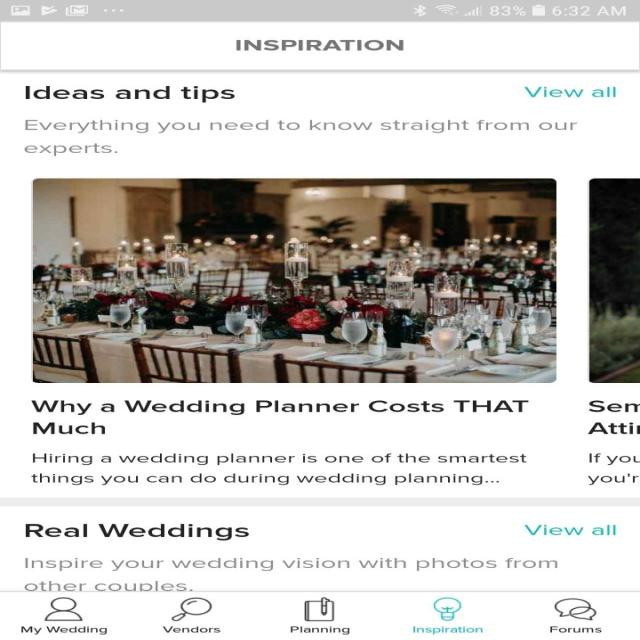Icon: (170, 597, 212, 621), (552, 598, 596, 620), (44, 596, 82, 620), (304, 597, 334, 621)
Image: (31, 178, 556, 383), (588, 178, 640, 383), (432, 596, 462, 620)
Text: (24, 120, 577, 156), (24, 557, 558, 590), (30, 400, 528, 434), (30, 453, 526, 485), (25, 523, 249, 540), (25, 86, 235, 102), (235, 40, 404, 51), (586, 400, 640, 434), (586, 453, 640, 485), (522, 86, 616, 98), (524, 524, 616, 535), (21, 626, 108, 634), (412, 626, 482, 634), (290, 626, 350, 634), (162, 625, 220, 633), (548, 625, 602, 633)
